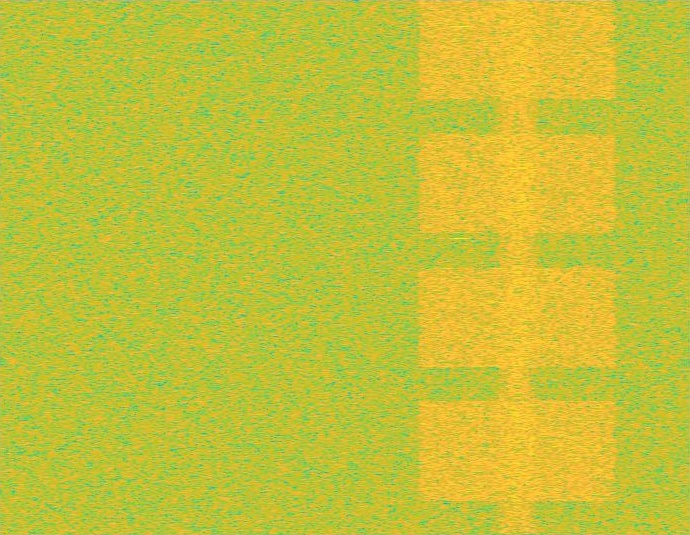5G: (414, 0, 621, 534)
DSSS: (494, 0, 541, 534)
Radar: (454, 0, 468, 534)
